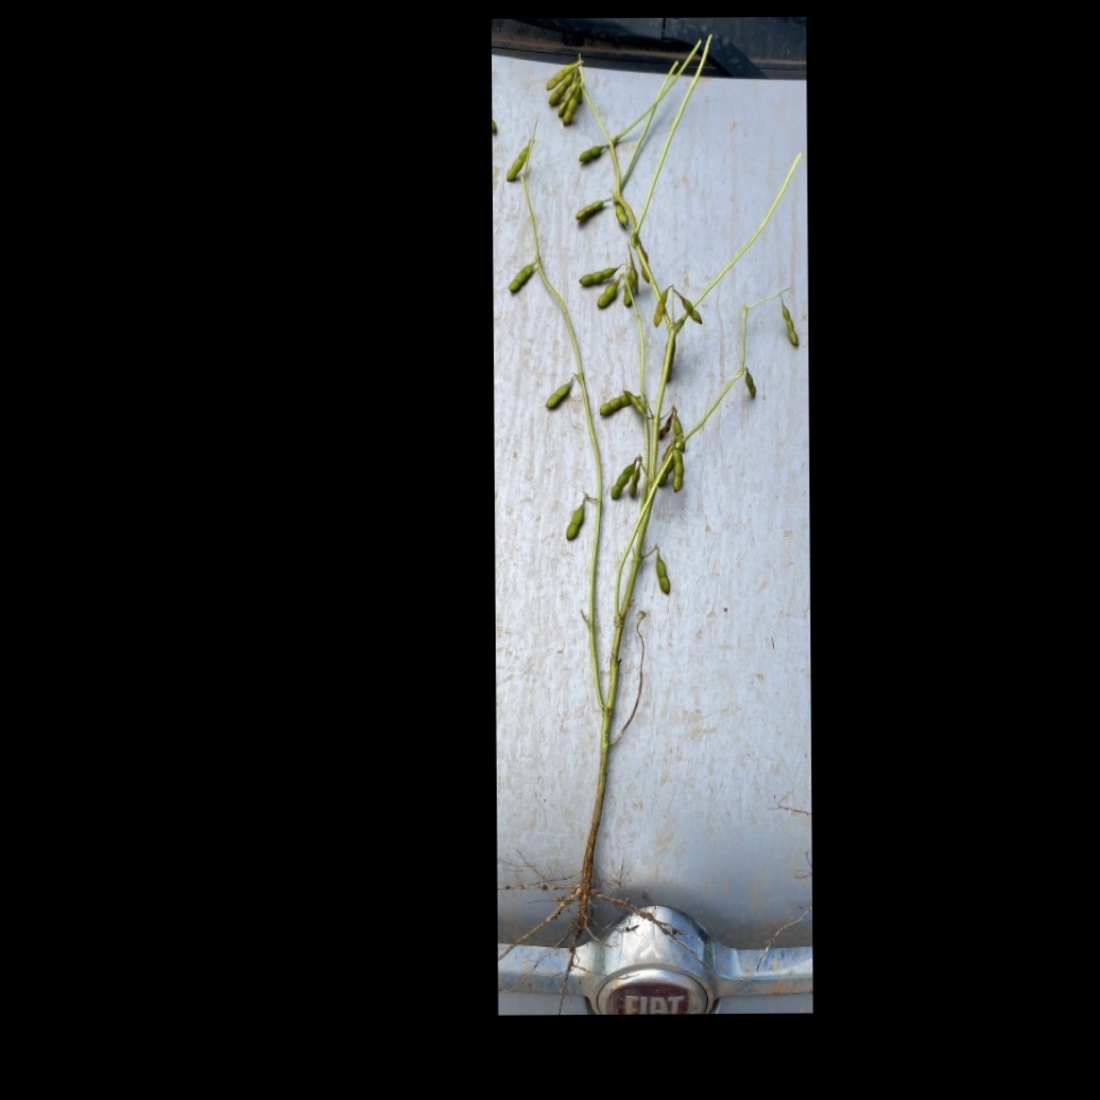pod: (563, 491, 592, 543), (651, 542, 676, 599), (674, 287, 706, 324), (777, 300, 801, 349), (570, 262, 618, 286), (607, 461, 636, 502), (650, 285, 674, 331), (505, 260, 536, 295), (622, 386, 651, 422), (595, 390, 634, 417), (543, 380, 574, 410), (504, 144, 527, 182), (671, 441, 685, 502), (573, 197, 607, 221), (572, 143, 606, 166), (593, 282, 618, 312), (628, 466, 644, 502), (743, 367, 760, 401), (610, 200, 631, 228)
soy: (497, 34, 807, 961)
